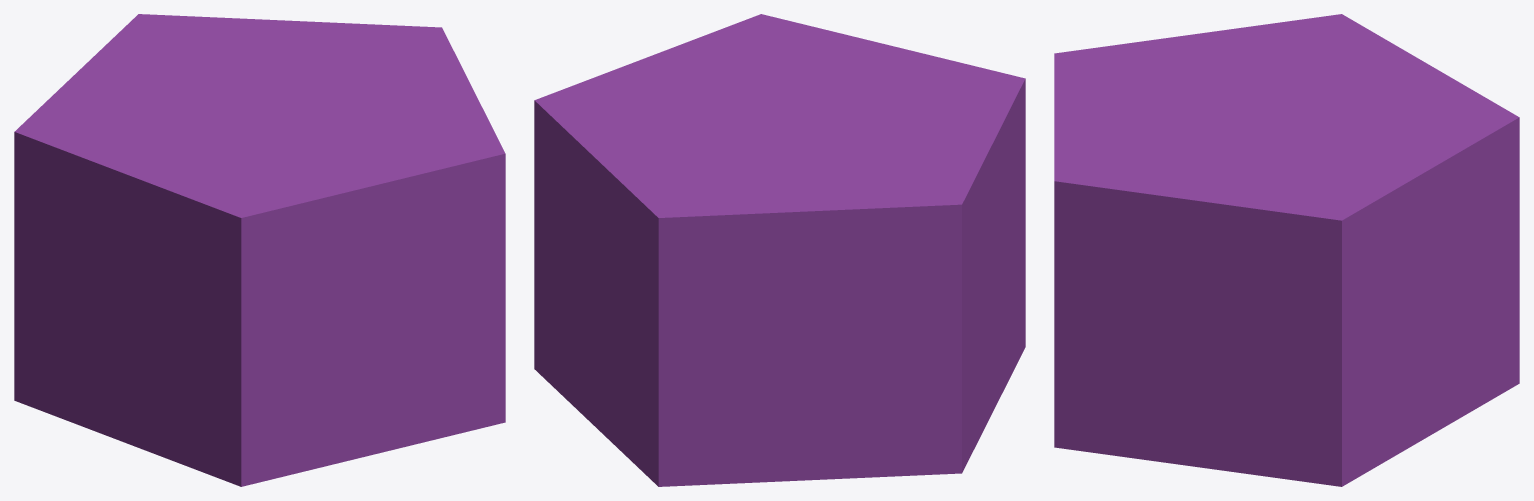
File: tier-t4.glb
3 renders of one model, left to right at view 1: azimuth 30°, elevation 25°; view 2: azimuth 150°, elevation 25°; view 3: azimuth 270°, elevation 25°, orthographic.
Parts seen in each view (by area): view 1: gem-t4-abyss-tempered; view 2: gem-t4-abyss-tempered; view 3: gem-t4-abyss-tempered.
Part boxes in pixels (left/top/right/bottom): gem-t4-abyss-tempered: left=14, top=14, right=505, bottom=486; gem-t4-abyss-tempered: left=534, top=14, right=1025, bottom=486; gem-t4-abyss-tempered: left=1054, top=14, right=1519, bottom=486.
Bounding box in the file's own units: 0.2663 × 0.16 × 0.2533.
